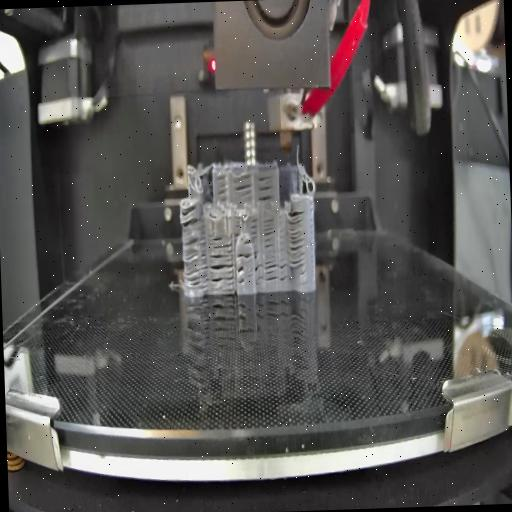cracks: (182, 236, 208, 292), (286, 206, 308, 268), (211, 250, 234, 291), (254, 260, 290, 284), (233, 174, 253, 204), (256, 172, 274, 205), (181, 202, 201, 228), (262, 216, 276, 248), (216, 172, 228, 204), (214, 230, 232, 250), (236, 248, 258, 261), (250, 217, 259, 242), (236, 262, 245, 286), (234, 214, 242, 238), (242, 240, 251, 246)
